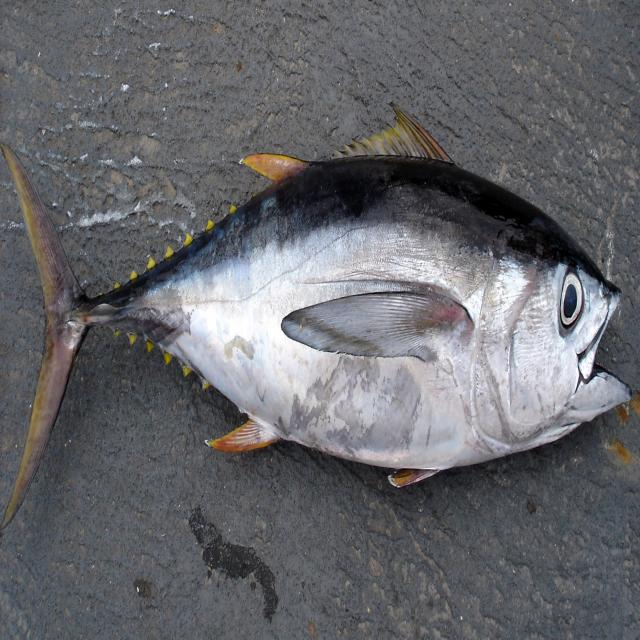Big Eye Tuna: (0, 97, 635, 539)
